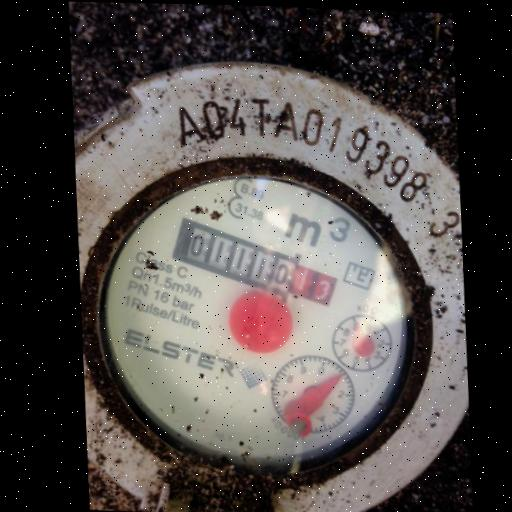0: (183, 226, 214, 263), (269, 257, 298, 291)
1: (226, 242, 256, 279), (288, 263, 318, 299), (247, 249, 276, 286), (205, 235, 234, 270)
3: (309, 272, 338, 306)
border_water_meter_number: (165, 209, 343, 318)
